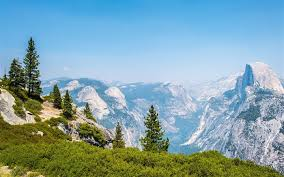mountain: (13, 74, 278, 177)
sky: (41, 2, 274, 78)
tree: (10, 36, 47, 97), (136, 106, 173, 167)
